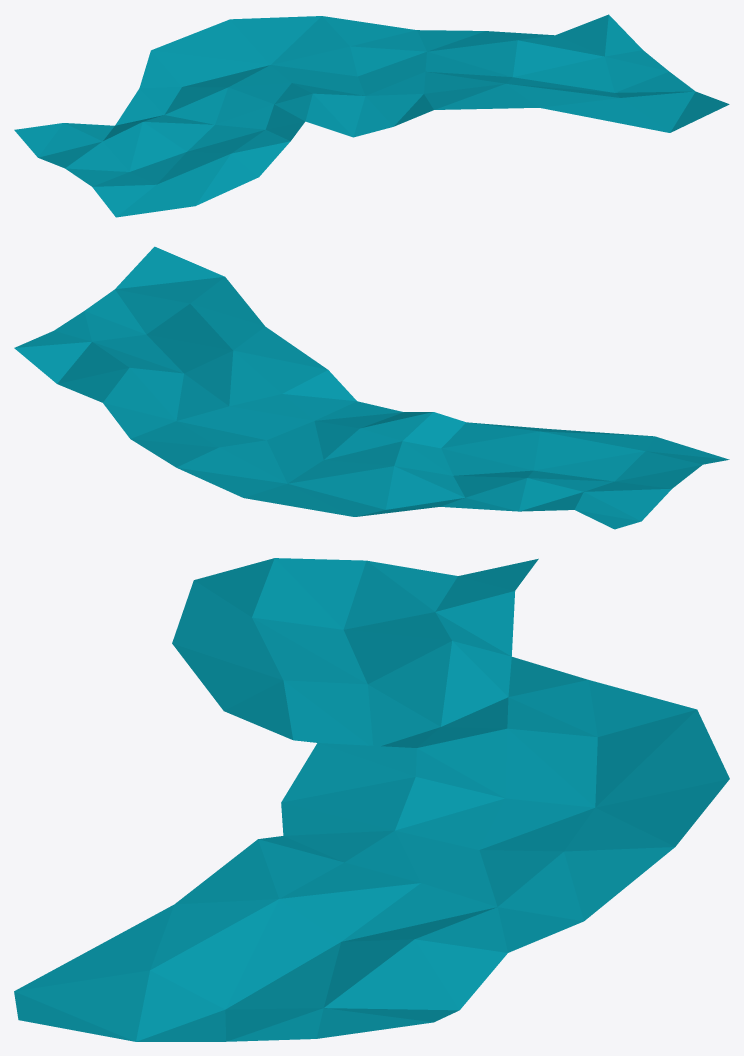
File: riverlowpolyeffect.fbx
3 views of the same model, one above another, from view 1: azimuth 30°, elevation 25°; view 2: azimuth 150°, elevation 25°; view 3: azimuth 270°, elevation 25° (orthographic). The views are drawn at different scales.
Parts seen in each view (by area): view 1: RiverTest1; view 2: RiverTest1; view 3: RiverTest1.
Boxes of the visible parts, left/top/right/bottom form: RiverTest1: left=14, top=14, right=729, bottom=217; RiverTest1: left=14, top=246, right=729, bottom=529; RiverTest1: left=14, top=558, right=729, bottom=1041.
Size of the model in its own units: 29108 by 1072 by 18940.
